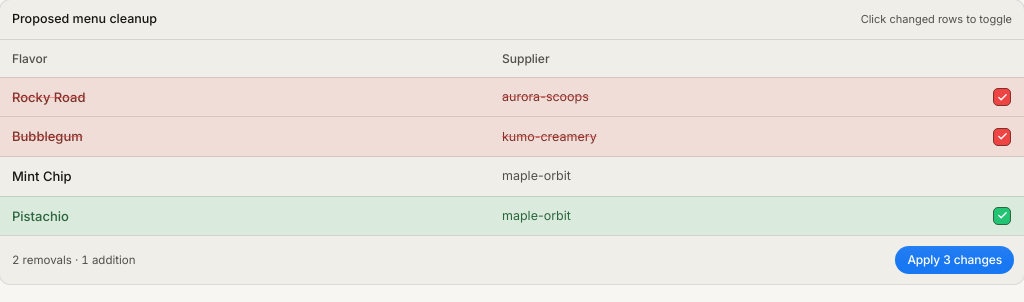
Scenario: DiffTable — applying › reports the included keys once and locks the rows
Step 1. Click the checkbox named "Include removing Bubblegum" → point(1002, 137), box [993,128,1011,146]
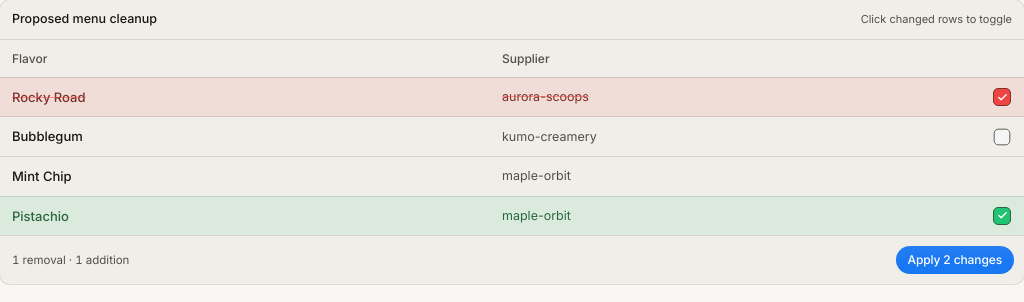
Step 2. Click the button "Apply 2 changes" → point(955, 260), box [896,246,1014,274]
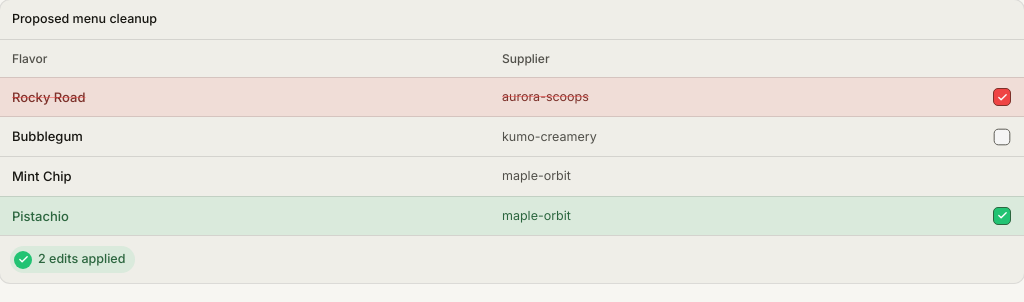
Expected: the text "2 edits applied" is shown, [10,246,135,273]
Expected: the button "Apply" is gone
